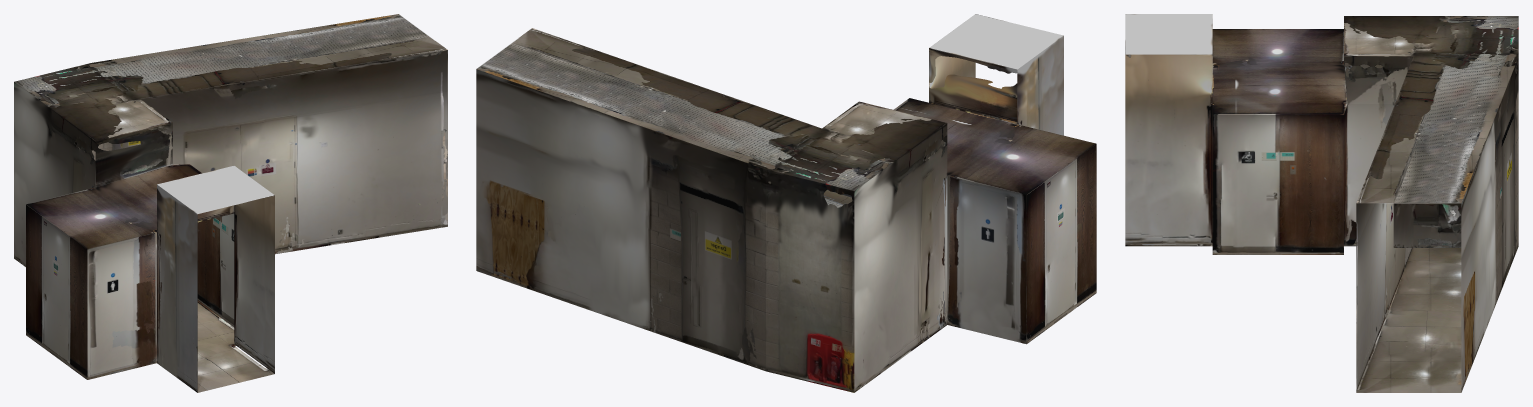
File: G-corr-2-LP.fbx
The picture shows the model from 3 angles, left to right: view 1: azimuth 30°, elevation 25°; view 2: azimuth 150°, elevation 25°; view 3: azimuth 270°, elevation 25°; orthographic projection. The views are drawn at different scales.
Parts seen in each view (by area): view 1: G-corr-2-LP; view 2: G-corr-2-LP; view 3: G-corr-2-LP.
Boxes of the visible parts, x1,y1,x2,y2 form: G-corr-2-LP: (14, 14, 447, 392); G-corr-2-LP: (476, 14, 1096, 392); G-corr-2-LP: (1125, 14, 1518, 392).
Size of the model in its own units: 804 by 321 by 598.
1 material, 1 textured.
